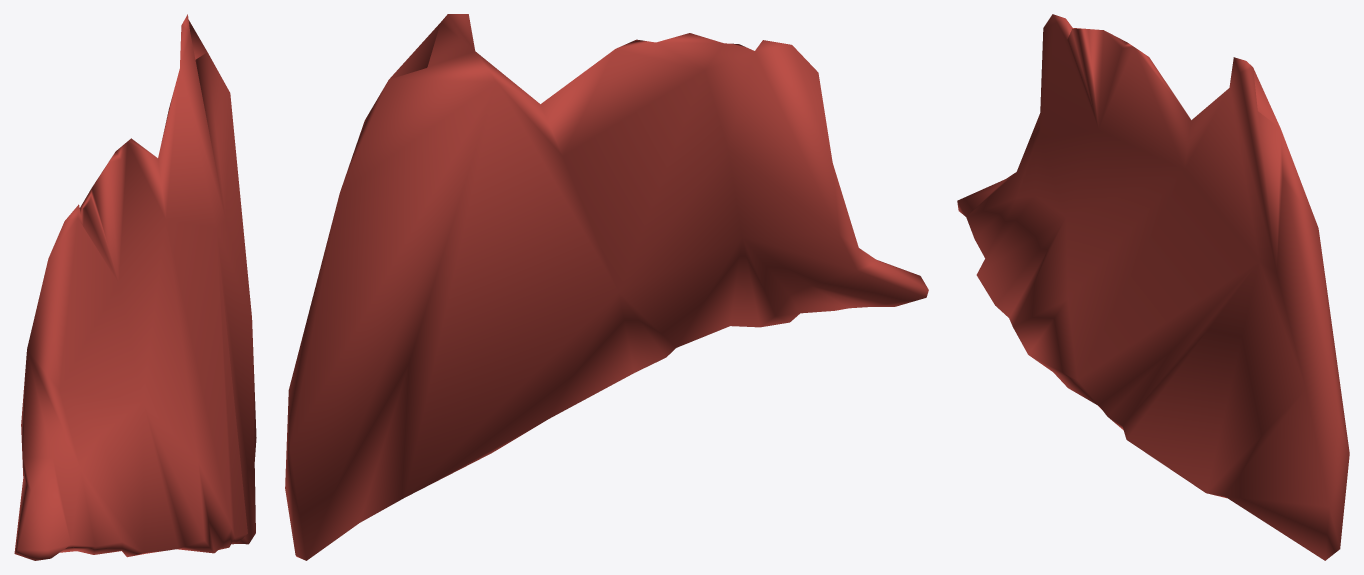
Rendered from musculos-levator-anguli-oris-l.glb.
3 views of the same model, side by side, from view 1: azimuth 30°, elevation 25°; view 2: azimuth 150°, elevation 25°; view 3: azimuth 270°, elevation 25° (orthographic). The views are drawn at different scales.
Visible parts, largest first — view 1: Levator anguli oris.l; view 2: Levator anguli oris.l; view 3: Levator anguli oris.l.
Boxes of the visible parts, bbox=[...] form: Levator anguli oris.l: bbox=[14, 14, 256, 560]; Levator anguli oris.l: bbox=[285, 14, 928, 560]; Levator anguli oris.l: bbox=[957, 14, 1349, 560].
Size of the model in its own units: 0.017 by 0.02 by 0.0156.
